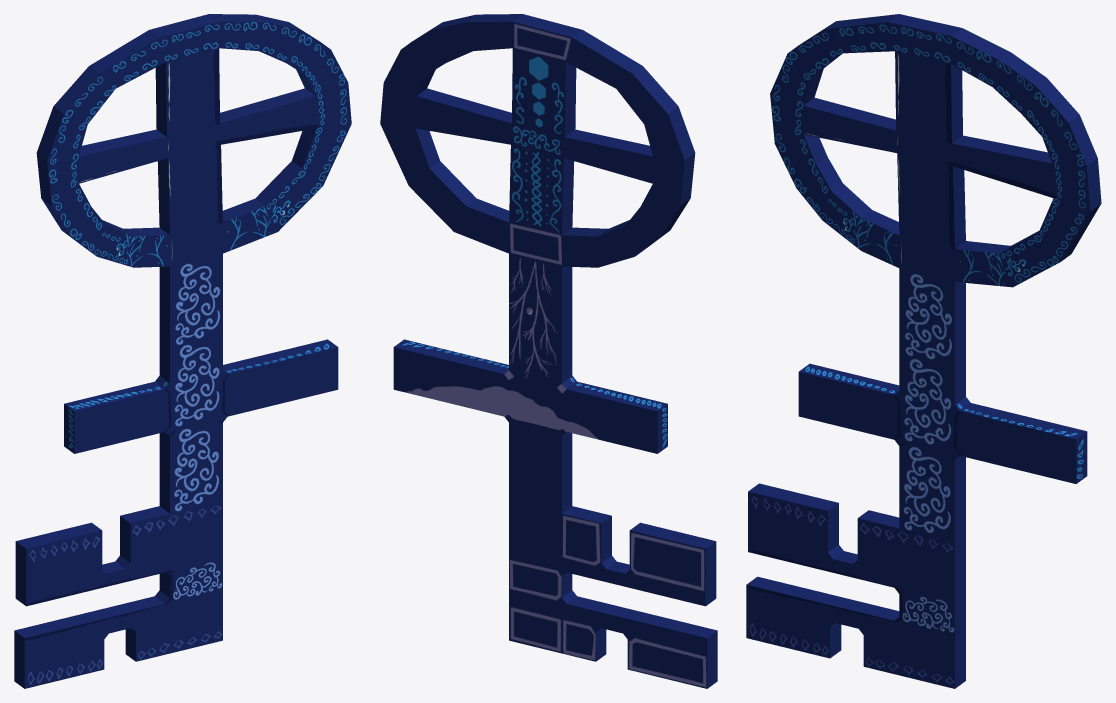
The model's file is clé avec animation.FBX.
The picture shows the model from 3 angles, left to right: view 1: azimuth 30°, elevation 25°; view 2: azimuth 150°, elevation 25°; view 3: azimuth 330°, elevation 25°; orthographic projection. The views are drawn at different scales.
Parts seen in each view (by area): view 1: Box001; view 2: Box001; view 3: Box001.
Part boxes in pixels (<box>): Box001: <box>14,14,351,688</box>; Box001: <box>380,14,717,688</box>; Box001: <box>746,14,1101,688</box>.
Bounding box in the file's own units: 2.69 × 4.87 × 0.1498.
1 material, 1 textured.
